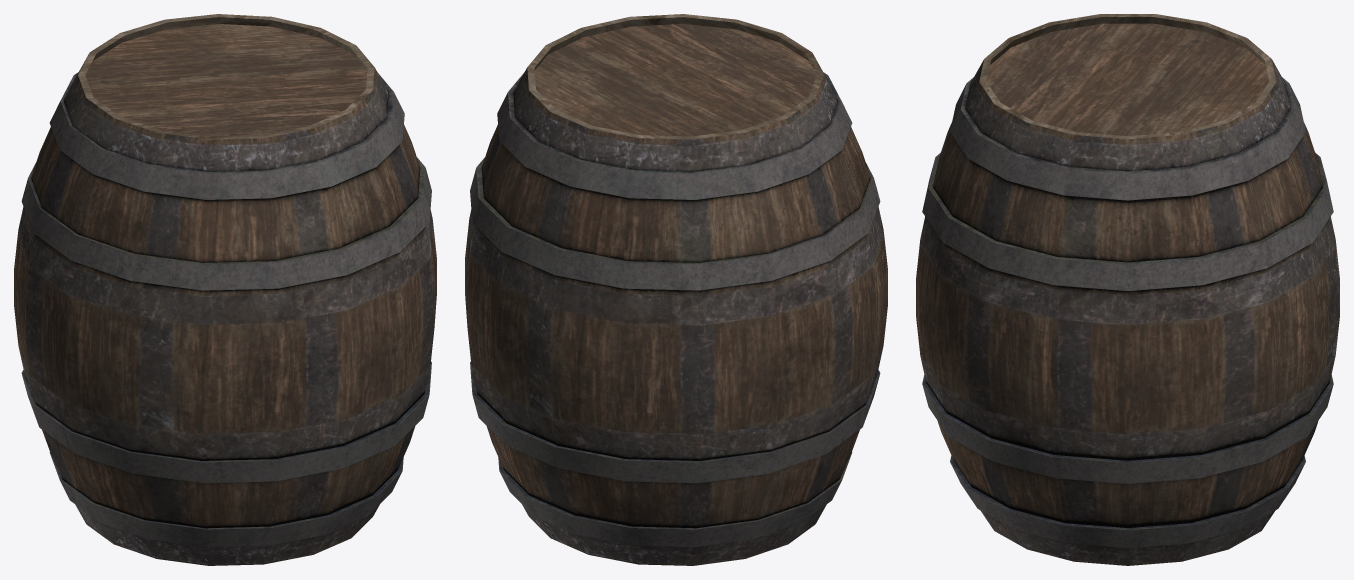
The model's file is BarrelO.fbx.
3 renders of one model, left to right at view 1: azimuth 30°, elevation 25°; view 2: azimuth 150°, elevation 25°; view 3: azimuth 270°, elevation 25°, orthographic.
Parts seen in each view (by area): view 1: hjtr6; view 2: hjtr6; view 3: hjtr6.
Part boxes in pixels (bbox=[...]): hjtr6: bbox=[14, 14, 436, 565]; hjtr6: bbox=[465, 14, 887, 565]; hjtr6: bbox=[916, 14, 1339, 565].
Bounding box in the file's own units: 54.21 × 60.48 × 54.44.
1 material, 1 textured.
